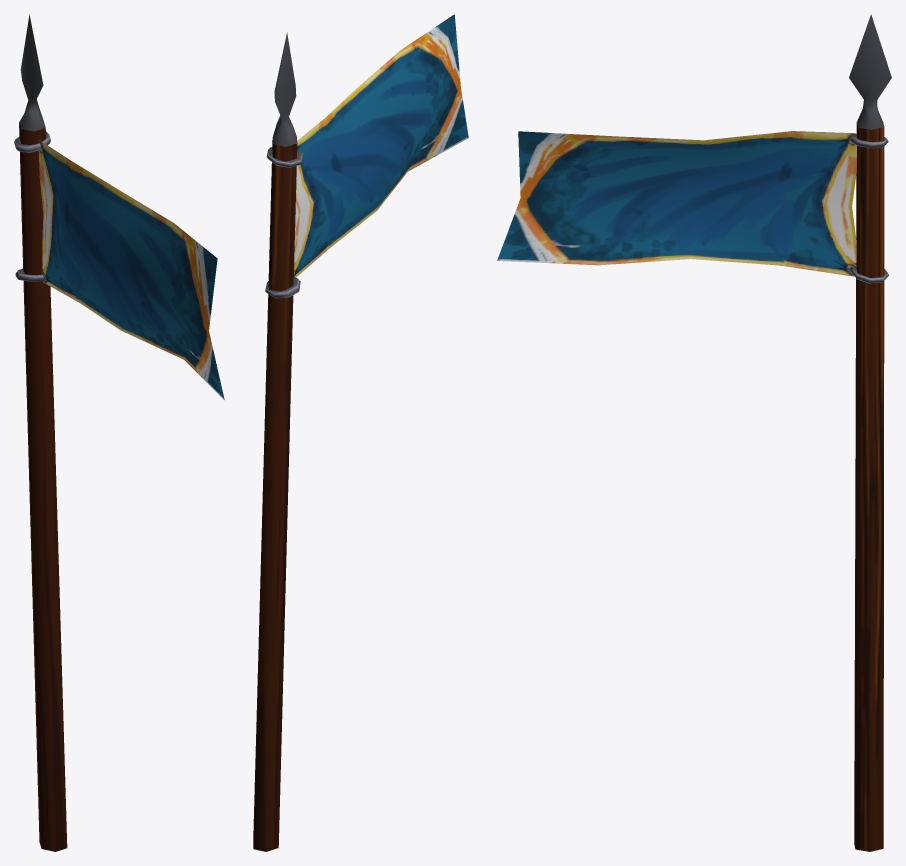
File: SM_PROP_flag_05.glb
3 renders of one model, left to right at view 1: azimuth 30°, elevation 25°; view 2: azimuth 150°, elevation 25°; view 3: azimuth 270°, elevation 25°, orthographic.
Visible parts, largest first — view 1: SM_PROP_flag_05_EXPORT; view 2: SM_PROP_flag_05_EXPORT; view 3: SM_PROP_flag_05_EXPORT.
Boxes of the visible parts, x1,y1,x2,y2 form: SM_PROP_flag_05_EXPORT: [14, 14, 224, 851]; SM_PROP_flag_05_EXPORT: [253, 14, 468, 851]; SM_PROP_flag_05_EXPORT: [497, 14, 891, 851].
Size of the model in its own units: 0.4065 by 6.56 by 2.86.
3 materials, 3 textured.
